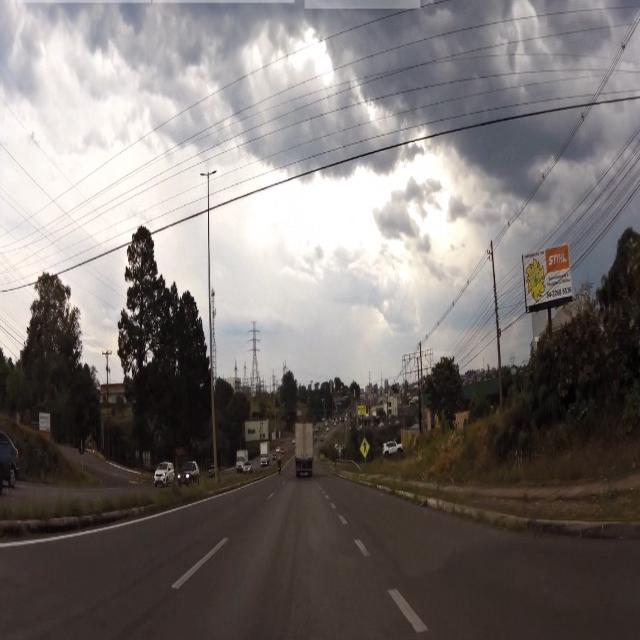A-32a: (360, 439, 370, 457)
